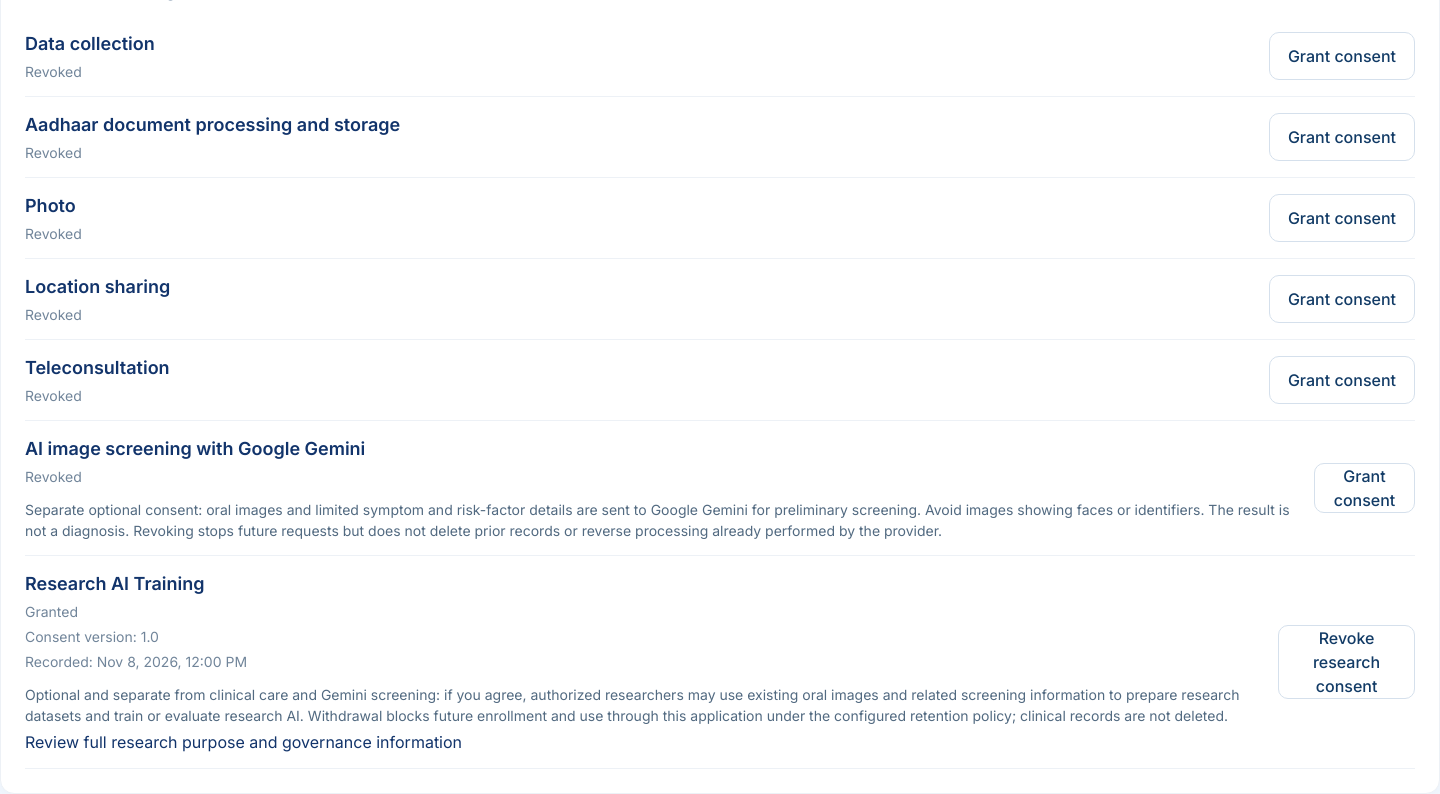
it: patient profile research AI training consent manager › revokes active research consent through the research API after confirmation
The width and height of the screenshot is (1440, 794).
(page scrolled)
Step 1. Click the button "Revoke research consent" → (1347, 662), box x1=1278 y1=624 x2=1415 y2=698
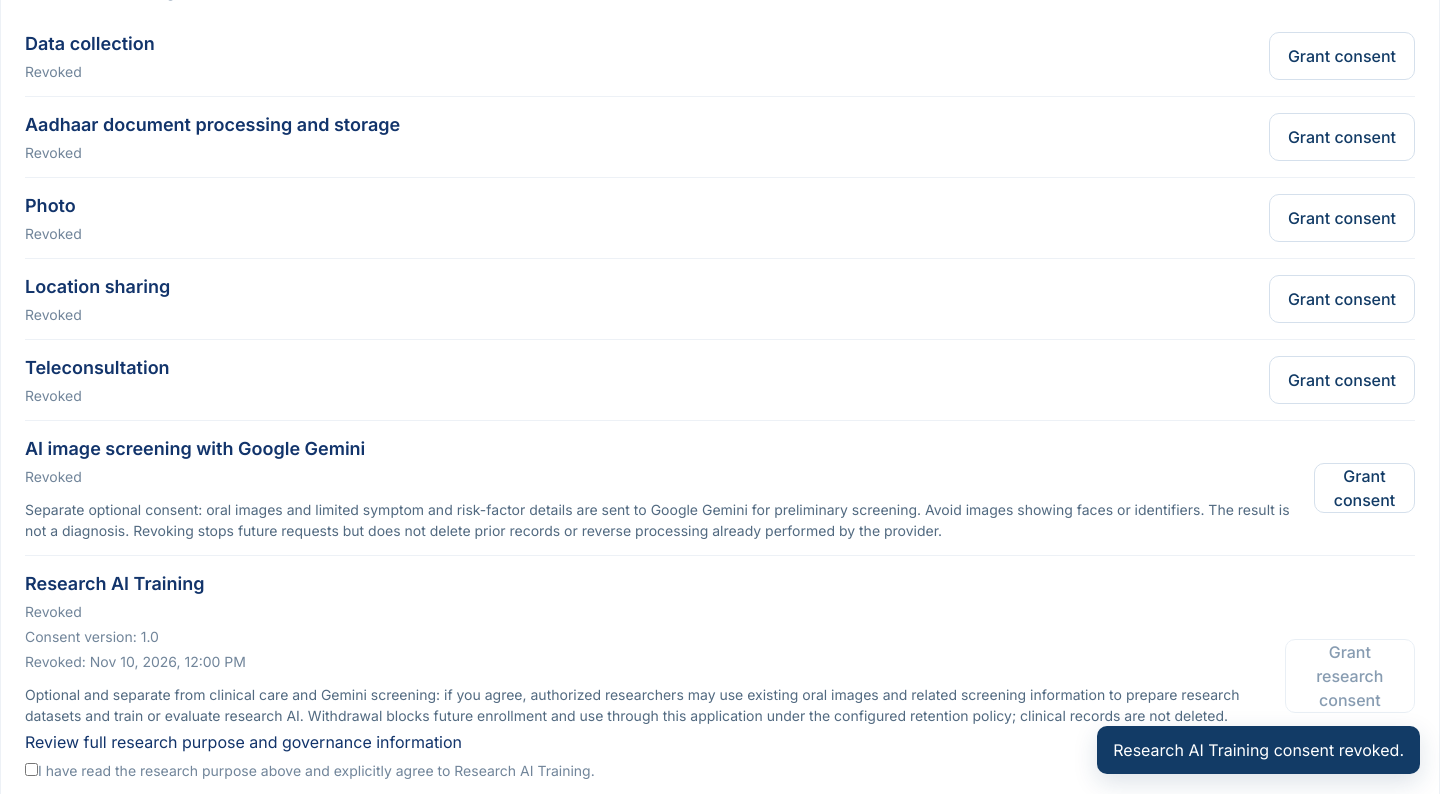
Expected: the 7th text "Revoked" is shown, x1=25 y1=602 x2=82 y2=620
